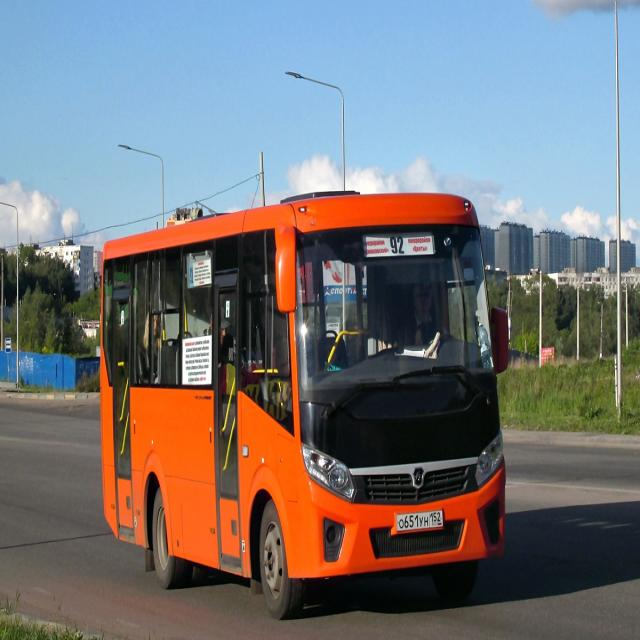number-of-bus: (390, 234, 408, 257)
